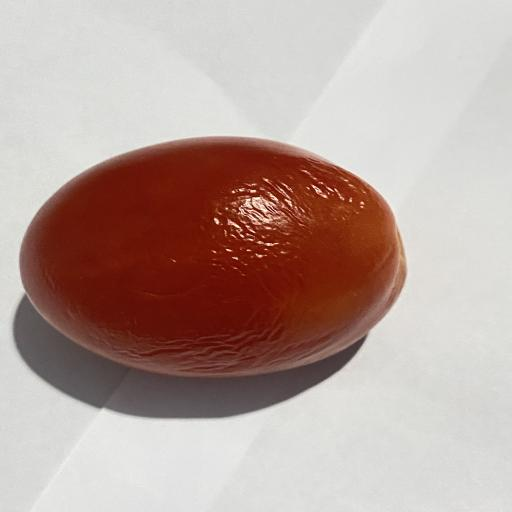spoiled: (20, 137, 406, 377)
